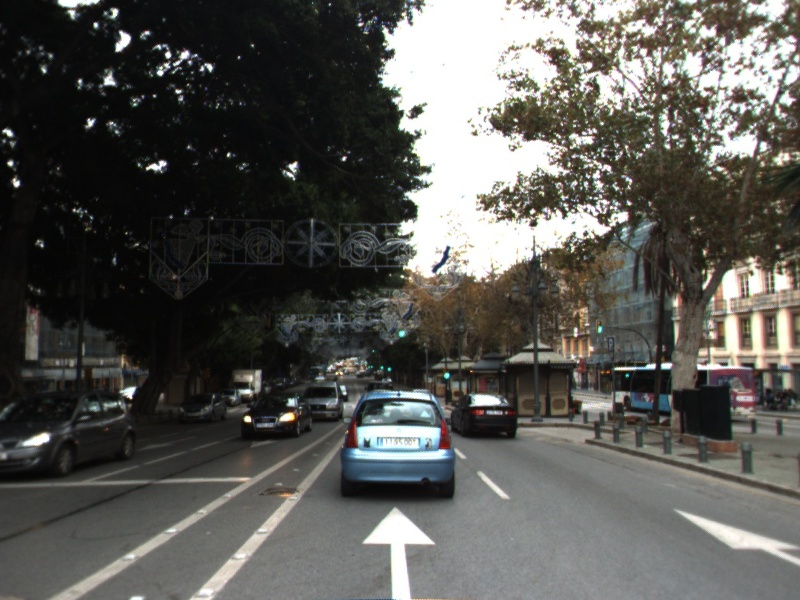STRAIGHT: (670, 505, 800, 568), (358, 503, 439, 600)
